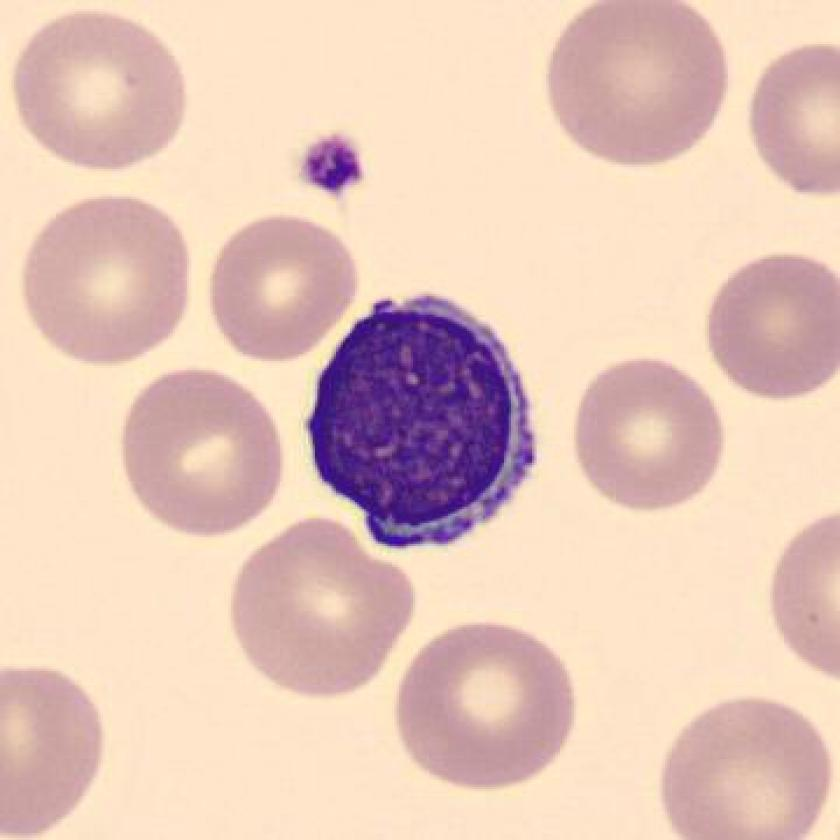lymphocyte: (288, 272, 552, 566)
